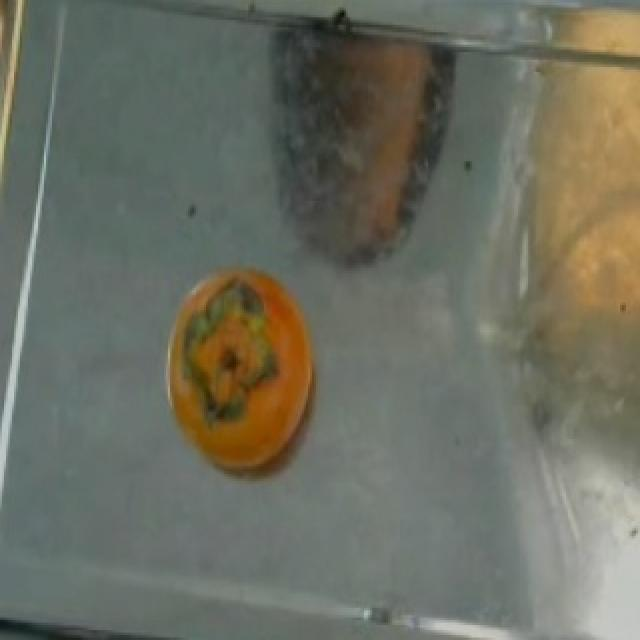Fruit: (158, 256, 332, 486)
